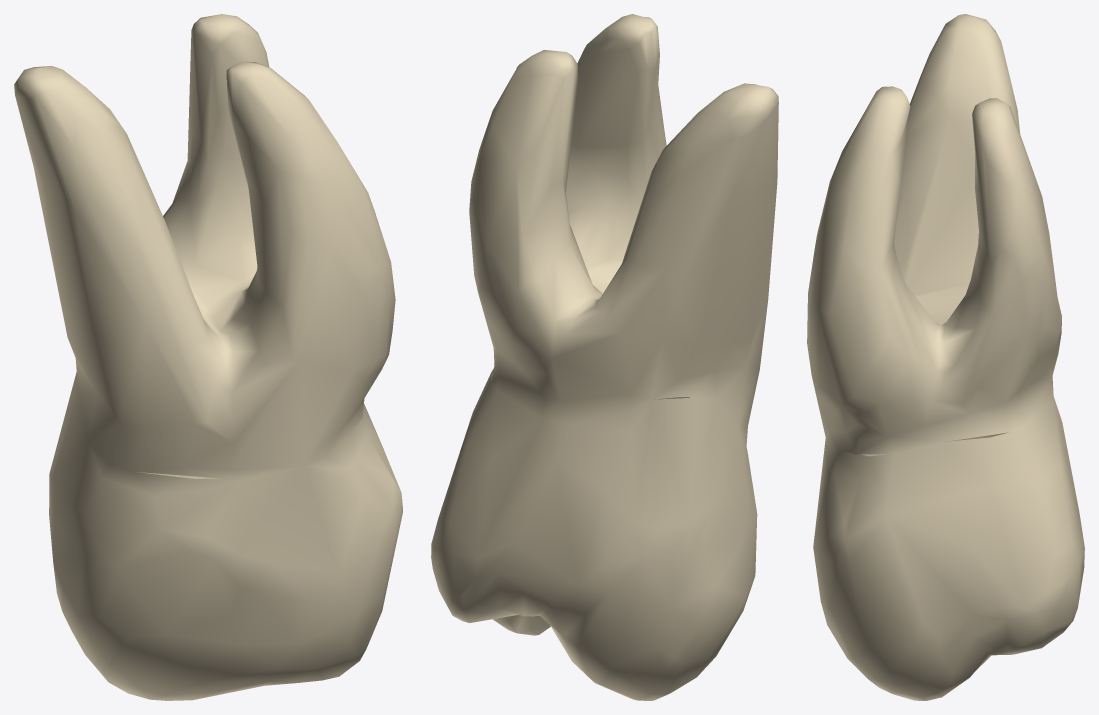
Rendered from esqueleto-upper-second-molar-tooth-l.glb.
The picture shows the model from 3 angles, left to right: view 1: azimuth 30°, elevation 25°; view 2: azimuth 150°, elevation 25°; view 3: azimuth 270°, elevation 25°; orthographic projection. The views are drawn at different scales.
Parts seen in each view (by area): view 1: Upper second molar tooth.l; view 2: Upper second molar tooth.l; view 3: Upper second molar tooth.l.
Boxes of the visible parts, x1,y1,x2,y2 form: Upper second molar tooth.l: (14,14,402,700); Upper second molar tooth.l: (431,14,778,700); Upper second molar tooth.l: (807,14,1084,700).
Bounding box in the file's own units: 0.0116 × 0.0221 × 0.00961.
